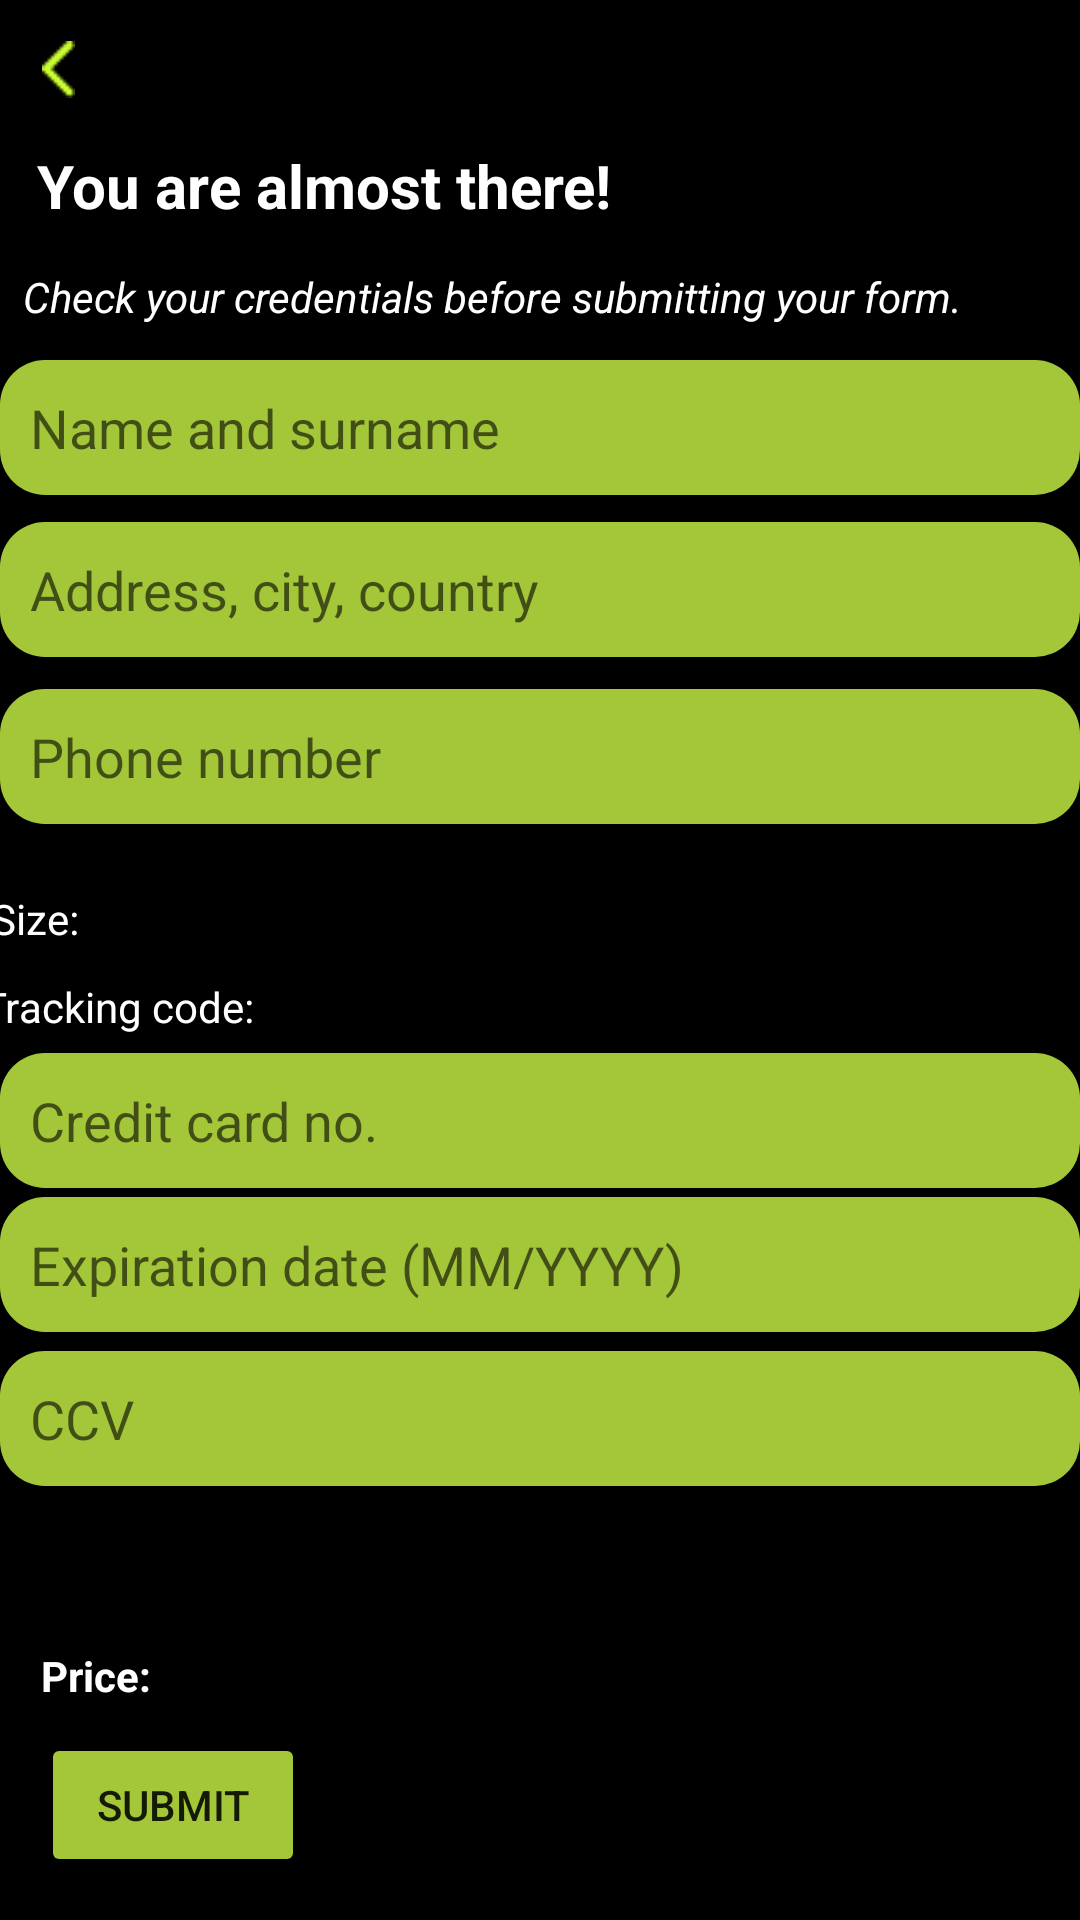

Where icons sit on this 1080 x 1920 app screen, as (x1, y1, x2, y2):
rikvercicon: (42, 41, 75, 98)
